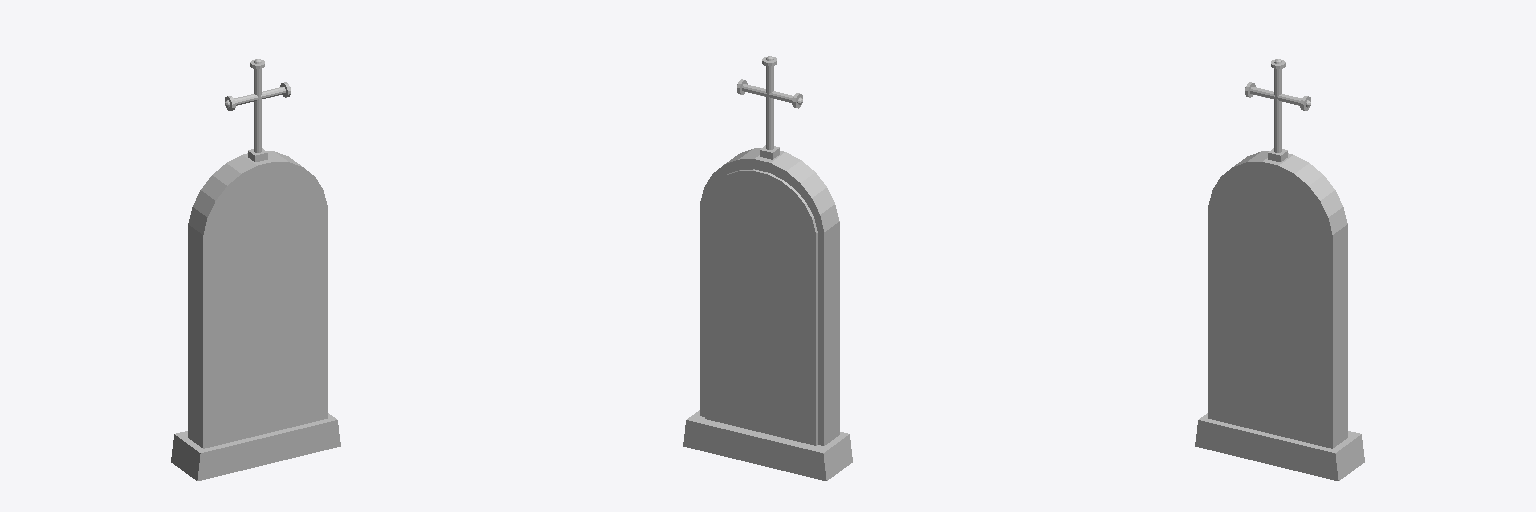
File: gravestone5.obj
The picture shows the model from 3 angles: view 1: azimuth 30°, elevation 25°; view 2: azimuth 150°, elevation 25°; view 3: azimuth 330°, elevation 25°; orthographic projection.
Visible parts, largest first — view 1: sphere.002; view 2: sphere.002; view 3: sphere.002.
Boxes of the visible parts, box(x1,y1,x2,y2) form: sphere.002: box(171, 59, 340, 480); sphere.002: box(683, 56, 852, 480); sphere.002: box(1195, 59, 1364, 480).
Size of the model in its own units: 0.6875 by 1.81 by 0.2188.